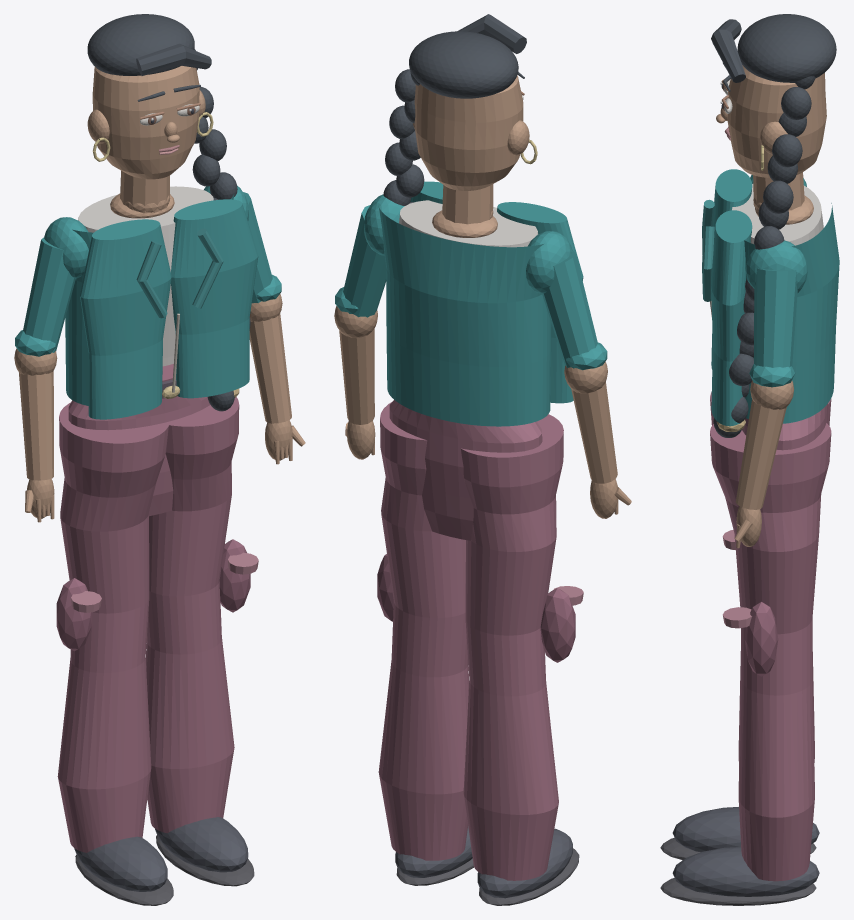
The model's file is noor_model_v1_3.glb.
The picture shows the model from 3 angles, left to right: view 1: azimuth 30°, elevation 25°; view 2: azimuth 150°, elevation 25°; view 3: azimuth 270°, elevation 25°; orthographic projection. The views are drawn at different scales.
Visible parts, largest first — view 1: L_trouser_003, R_trouser_009, L_jacket_panel_017, R_jacket_panel_019, face_skin_048, hair_cap_069, L_upper_arm_024, R_shoe_007, L_shoe_001, pelvis_013, L_forearm_027, R_forearm_038 (+20 smaller); view 2: L_trouser_003, R_trouser_009, jacket_back_shell_016, face_skin_048, pelvis_013, hair_cap_069, L_upper_arm_024, L_forearm_027, R_forearm_038, L_jacket_panel_017, R_upper_arm_035, inner_top_014 (+17 smaller); view 3: R_trouser_009, jacket_back_shell_016, R_jacket_panel_019, face_skin_048, hair_cap_069, R_shoe_007, R_upper_arm_035, R_forearm_038, L_shoe_001, R_cargo_pocket_010, R_shoulder_cap_034, R_sole_008 (+23 smaller).
Part boxes in pixels (left/top/right/bottom): L_trouser_003: left=57, top=402, right=168, bottom=852; R_trouser_009: left=145, top=397, right=239, bottom=833; L_jacket_panel_017: left=80, top=219, right=171, bottom=419; R_jacket_panel_019: left=171, top=199, right=258, bottom=398; face_skin_048: left=92, top=66, right=199, bottom=179; hair_cap_069: left=87, top=14, right=194, bottom=75; L_upper_arm_024: left=23, top=237, right=75, bottom=352; R_shoe_007: left=155, top=817, right=248, bottom=872; L_shoe_001: left=74, top=836, right=167, bottom=891; pelvis_013: left=68, top=363, right=210, bottom=516; L_forearm_027: left=19, top=371, right=53, bottom=480; R_forearm_038: left=249, top=313, right=291, bottom=423; L_trouser_003: left=461, top=414, right=563, bottom=880; R_trouser_009: left=378, top=402, right=469, bottom=860; jacket_back_shell_016: left=378, top=206, right=551, bottom=426; face_skin_048: left=414, top=75, right=523, bottom=190; pelvis_013: left=389, top=400, right=542, bottom=540; hair_cap_069: left=409, top=31, right=518, bottom=98; L_upper_arm_024: left=542, top=250, right=597, bottom=368; L_forearm_027: left=571, top=382, right=617, bottom=483; R_forearm_038: left=339, top=328, right=374, bottom=424; L_jacket_panel_017: left=497, top=202, right=583, bottom=403; R_upper_arm_035: left=343, top=205, right=386, bottom=317; inner_top_014: left=399, top=200, right=538, bottom=247; R_trouser_009: left=710, top=423, right=831, bottom=881; jacket_back_shell_016: left=744, top=203, right=839, bottom=423; R_jacket_panel_019: left=711, top=210, right=752, bottom=426; face_skin_048: left=727, top=65, right=826, bottom=177; hair_cap_069: left=737, top=14, right=836, bottom=82; R_shoe_007: left=672, top=847, right=819, bottom=896; R_upper_arm_035: left=754, top=268, right=797, bottom=367; R_forearm_038: left=735, top=399, right=786, bottom=509; L_shoe_001: left=672, top=807, right=819, bottom=852; R_cargo_pocket_010: left=744, top=602, right=778, bottom=676; R_shoulder_cap_034: left=745, top=240, right=807, bottom=292; R_sole_008: left=660, top=878, right=816, bottom=905.
Bounding box in the file's own units: 0.6106 × 1.74 × 0.3314.
